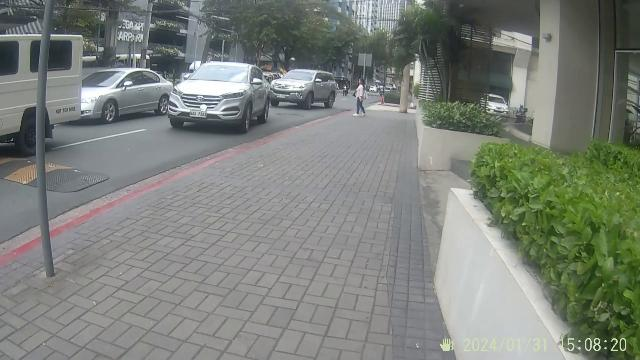street_sign: (356, 48, 374, 80)
utility_post: (32, 0, 59, 280)
